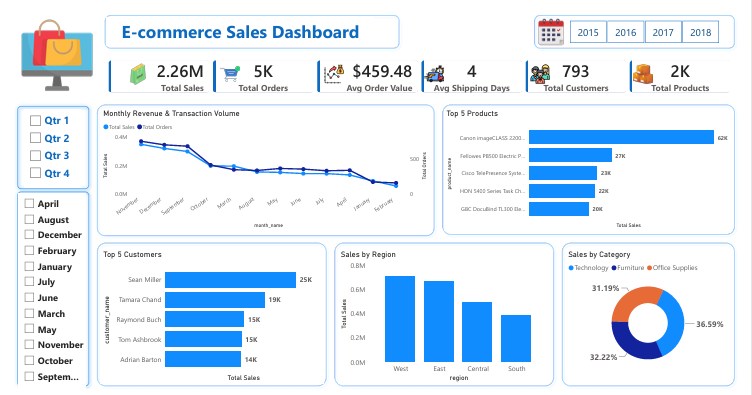

The dashboard page shown, as its layout file describes it:
{"tool":"powerbi","page":{"name":"Executive Dashboard","canvas":[1580,820],"ordinal":0},"visuals":[{"type":"shape","box":[6.8,382.3,173.3,438.3],"z":0},{"type":"shape","box":[6.8,197.1,173.3,197.1],"z":1000},{"type":"shape","box":[278.6,90,1301.4,107],"z":2000},{"type":"shape","box":[197.1,0,655.8,90],"z":3000},{"type":"shape","box":[1128.1,0,451.9,90],"z":4000},{"type":"shape","box":[1187.5,492.7,392.5,327.9],"z":5000},{"type":"shape","box":[694.9,492.7,492.7,327.9],"z":6000},{"type":"shape","box":[180.1,492.7,514.8,327.9],"z":7000},{"type":"shape","box":[929.3,193.7,650.7,299],"z":8000},{"type":"shape","box":[180.1,193.7,749.2,302.4],"z":9000},{"type":"cardVisual","fields":{"Data":["ecsales superstore.Total Sales","ecsales superstore.Total Orders","ecsales superstore.Average Order Value","ecsales superstore.Average Shipping Days","ecsales superstore.Number of Customers","ecsales superstore.Number of Products"]},"box":[197.1,90,1382.9,103.6],"z":10000},{"type":"lineChart","title":"Monthly Revenue & Transaction Volume","fields":{"Y":["ecsales superstore.Total Sales"],"Category":["ecsales superstore.month_name"],"Y2":["ecsales superstore.Total Orders"]},"box":[197.1,212.4,711.8,261.6],"z":11000},{"type":"donutChart","title":"Sales by Category","fields":{"Y":["ecsales superstore.Total Sales"],"Category":["ecsales superstore.category"]},"box":[1204.5,516.5,356.8,268],"z":12000},{"type":"clusteredColumnChart","title":"Sales by Region","fields":{"Category":["ecsales superstore.region"],"Y":["ecsales superstore.Total Sales"]},"box":[711.8,516.5,458.7,290.5],"z":13000},{"type":"clusteredBarChart","title":"Top 5 Products","fields":{"Y":["ecsales superstore.Total Sales"],"Category":["ecsales superstore.product_name"]},"box":[941.2,212.4,620.1,261.6],"z":14000},{"type":"clusteredBarChart","title":"Top 5 Customers","fields":{"Y":["ecsales superstore.Total Sales"],"Category":["ecsales superstore.customer_name"]},"box":[197.1,516.5,484.2,290.5],"z":15000},{"type":"slicer","fields":{"Values":["ecsales superstore.order_year"]},"box":[1187.5,13.6,373.8,62.9],"z":16000},{"type":"textbox","box":[209,13.6,581,62.9],"z":17000},{"type":"slicer","fields":{"Values":["ecsales superstore.Quarter Name"]},"box":[30.6,212.4,122.3,169.9],"z":18000},{"type":"slicer","fields":{"Values":["ecsales superstore.month_name"]},"box":[18.7,394.2,147.8,426.4],"z":19000},{"type":"image","box":[251.4,103.6,52.7,64.6],"z":20000},{"type":"image","box":[457,103.6,42.5,64.6],"z":21000},{"type":"image","box":[681.3,103.6,42.5,64.6],"z":22000},{"type":"image","box":[898.7,103.6,42.5,64.6],"z":23000},{"type":"image","box":[1128.1,103.6,42.5,64.6],"z":24000},{"type":"image","box":[1352.3,112.1,42.5,47.6],"z":25000},{"type":"image","box":[1143.4,15.3,60,60],"z":26000},{"type":"image","box":[6.8,0,190.3,181.8],"z":27000}]}

Visuals, with their boxes in screenshot pixels (x1, y1, x2, y2), scaled from the page's 1580x820 canvas onto the 752x395 screenshot:
shape: {"x1": 3, "y1": 184, "x2": 86, "y2": 394}
shape: {"x1": 3, "y1": 95, "x2": 86, "y2": 190}
shape: {"x1": 133, "y1": 43, "x2": 751, "y2": 95}
shape: {"x1": 94, "y1": 0, "x2": 406, "y2": 43}
shape: {"x1": 537, "y1": 0, "x2": 751, "y2": 43}
shape: {"x1": 565, "y1": 237, "x2": 751, "y2": 394}
shape: {"x1": 331, "y1": 237, "x2": 565, "y2": 394}
shape: {"x1": 86, "y1": 237, "x2": 331, "y2": 394}
shape: {"x1": 442, "y1": 93, "x2": 751, "y2": 237}
shape: {"x1": 86, "y1": 93, "x2": 442, "y2": 239}
cardVisual - ecsales superstore.Total Sales x ecsales superstore.Total Orders: {"x1": 94, "y1": 43, "x2": 751, "y2": 93}
"Monthly Revenue & Transaction Volume" lineChart: {"x1": 94, "y1": 102, "x2": 433, "y2": 228}
"Sales by Category" donutChart: {"x1": 573, "y1": 249, "x2": 743, "y2": 378}
"Sales by Region" clusteredColumnChart: {"x1": 339, "y1": 249, "x2": 557, "y2": 389}
"Top 5 Products" clusteredBarChart: {"x1": 448, "y1": 102, "x2": 743, "y2": 228}
"Top 5 Customers" clusteredBarChart: {"x1": 94, "y1": 249, "x2": 324, "y2": 389}
slicer - ecsales superstore.order_year: {"x1": 565, "y1": 7, "x2": 743, "y2": 37}
textbox: {"x1": 99, "y1": 7, "x2": 376, "y2": 37}
slicer - ecsales superstore.Quarter Name: {"x1": 15, "y1": 102, "x2": 73, "y2": 184}
slicer - ecsales superstore.month_name: {"x1": 9, "y1": 190, "x2": 79, "y2": 394}
image: {"x1": 120, "y1": 50, "x2": 145, "y2": 81}
image: {"x1": 218, "y1": 50, "x2": 238, "y2": 81}
image: {"x1": 324, "y1": 50, "x2": 344, "y2": 81}
image: {"x1": 428, "y1": 50, "x2": 448, "y2": 81}
image: {"x1": 537, "y1": 50, "x2": 557, "y2": 81}
image: {"x1": 644, "y1": 54, "x2": 664, "y2": 77}
image: {"x1": 544, "y1": 7, "x2": 573, "y2": 36}
image: {"x1": 3, "y1": 0, "x2": 94, "y2": 88}
